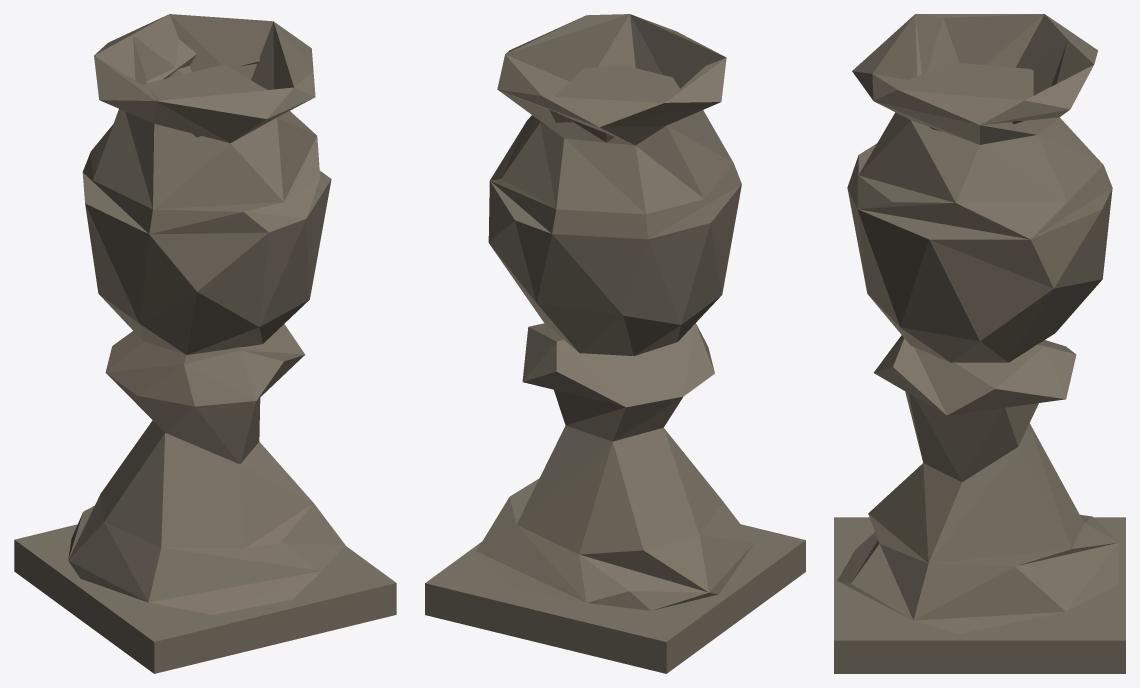
File: bay-planter.lod1.glb
The picture shows the model from 3 angles, left to right: view 1: azimuth 30°, elevation 25°; view 2: azimuth 150°, elevation 25°; view 3: azimuth 270°, elevation 25°; orthographic projection. The views are drawn at different scales.
Parts seen in each view (by area): view 1: vase_Flower_Pot__vase Flower Pot _0; view 2: vase_Flower_Pot__vase Flower Pot _0; view 3: vase_Flower_Pot__vase Flower Pot _0.
Part boxes in pixels (x1,y1,x2,y2): vase_Flower_Pot__vase Flower Pot _0: [14, 14, 396, 673]; vase_Flower_Pot__vase Flower Pot _0: [425, 14, 805, 673]; vase_Flower_Pot__vase Flower Pot _0: [834, 14, 1125, 673].
Bounding box in the file's own units: 0.471 × 0.9931 × 0.471.
